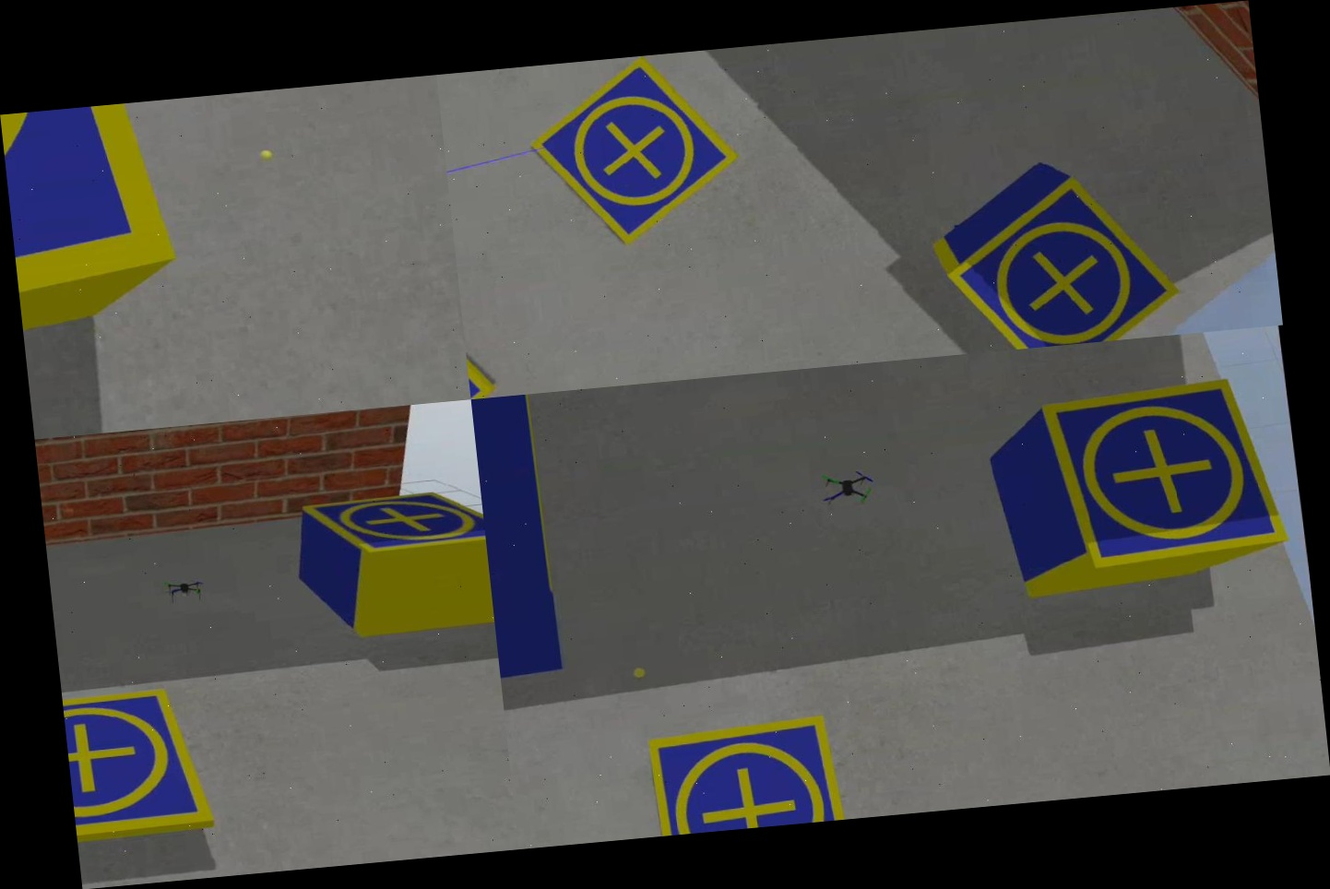small_base: (1039, 374, 1290, 575), (0, 100, 186, 363), (938, 162, 1185, 355), (521, 48, 745, 256), (62, 682, 218, 845), (647, 712, 849, 836), (296, 483, 487, 571), (457, 271, 502, 399)
